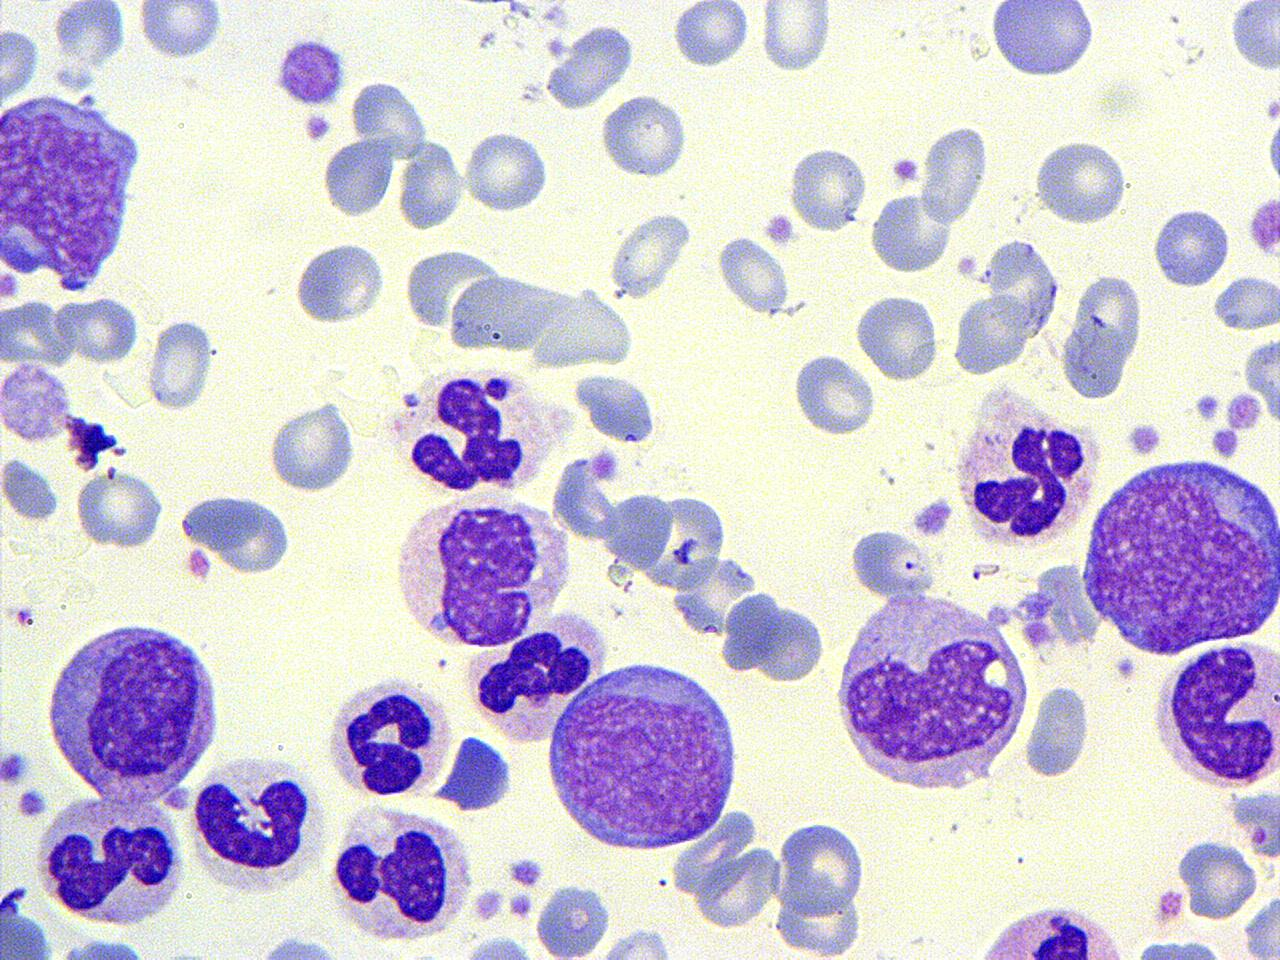Platelets: (271, 35, 349, 109), (1247, 193, 1279, 260), (910, 495, 954, 539), (1224, 389, 1264, 433), (1125, 419, 1165, 458), (506, 854, 546, 888), (14, 785, 50, 822), (1263, 113, 1280, 188), (762, 210, 796, 247), (472, 886, 504, 923), (0, 746, 27, 789), (1209, 424, 1241, 460), (184, 545, 213, 583), (591, 446, 620, 482), (302, 111, 334, 144), (1192, 391, 1222, 424), (506, 890, 534, 921), (890, 155, 920, 183), (540, 4, 570, 27), (1113, 654, 1137, 680), (476, 27, 498, 51), (545, 34, 568, 56), (1263, 97, 1280, 123), (400, 388, 420, 410)
RBC: (774, 814, 868, 926), (1031, 134, 1133, 228), (446, 270, 550, 355), (982, 235, 1065, 340), (852, 289, 944, 383), (788, 349, 879, 438), (918, 120, 992, 225), (463, 128, 552, 214), (947, 288, 1031, 380), (866, 189, 952, 276), (75, 470, 166, 550), (349, 77, 432, 162), (144, 315, 216, 414), (715, 232, 794, 317), (396, 138, 469, 231), (321, 135, 398, 220), (56, 290, 143, 366), (848, 524, 934, 600), (534, 882, 613, 958), (756, 2, 833, 75), (670, 1, 752, 69), (136, 1, 224, 62), (0, 21, 42, 108), (582, 924, 682, 958)
WBC: (831, 586, 1035, 800), (1074, 450, 1280, 661), (544, 654, 743, 854), (38, 610, 227, 810), (0, 85, 148, 296), (388, 487, 572, 651), (952, 382, 1102, 553), (34, 791, 189, 933), (326, 800, 476, 946), (396, 362, 553, 500), (1148, 634, 1280, 792), (186, 747, 322, 898), (466, 608, 608, 748), (324, 672, 456, 803), (767, 818, 871, 960), (1057, 270, 1147, 400), (177, 487, 296, 578), (959, 901, 1133, 960), (266, 396, 359, 496), (542, 17, 638, 112), (1032, 135, 1130, 228), (290, 236, 387, 328), (606, 207, 696, 304), (598, 88, 690, 182), (988, 2, 1100, 80), (853, 289, 943, 383), (983, 234, 1061, 340), (462, 126, 554, 215), (789, 348, 878, 439), (1175, 832, 1261, 926), (786, 139, 871, 234), (918, 119, 990, 229), (1022, 678, 1095, 782), (146, 312, 216, 417), (870, 189, 952, 277), (950, 288, 1029, 381), (1151, 201, 1231, 291), (350, 75, 432, 160), (430, 731, 516, 813), (847, 522, 933, 603), (396, 136, 468, 233), (716, 233, 794, 320), (1, 358, 78, 446), (321, 133, 396, 220), (49, 0, 129, 82), (572, 370, 660, 444), (533, 880, 613, 959), (272, 33, 348, 109), (672, 0, 752, 71), (757, 2, 833, 74), (134, 1, 222, 62), (566, 923, 686, 959), (0, 882, 57, 958), (1209, 272, 1279, 334), (2, 453, 62, 522), (1243, 327, 1280, 434), (1227, 0, 1280, 75), (230, 929, 356, 959)
